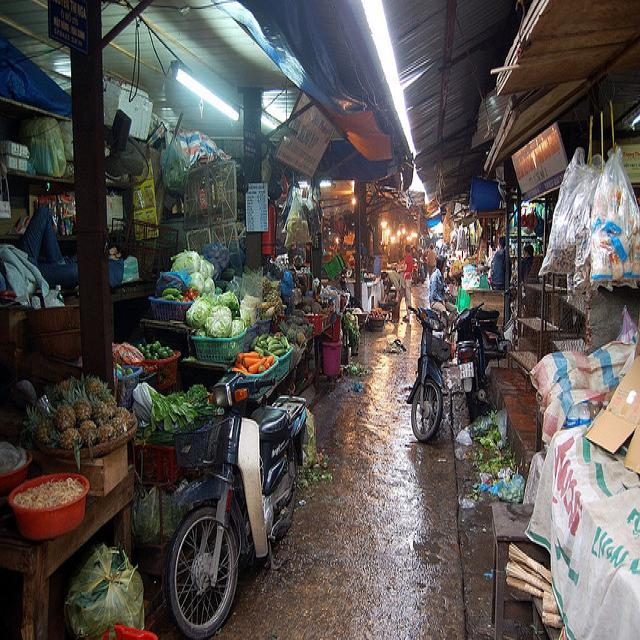motor: (170, 376, 308, 633), (403, 303, 451, 441), (448, 302, 488, 420)
